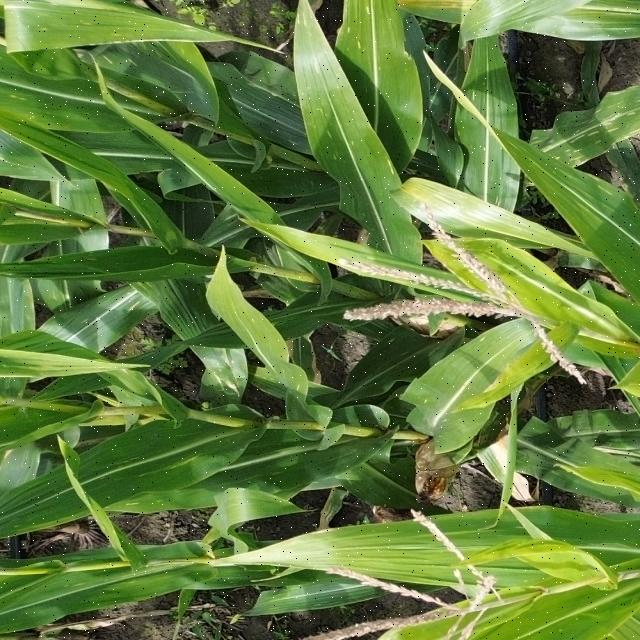gray-leaf-spot: (288, 12, 381, 210), (484, 82, 634, 195), (46, 286, 150, 360)
southern-leaf-blight: (0, 10, 143, 157), (84, 445, 299, 521), (403, 332, 505, 458)
